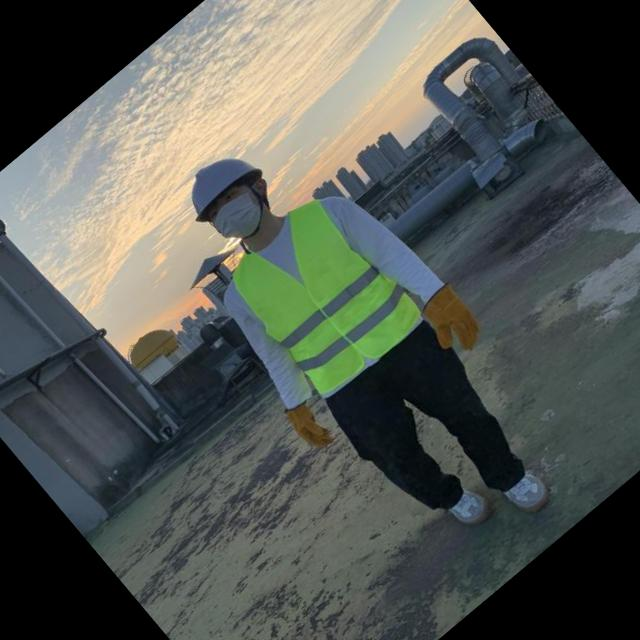hard_hat: (170, 138, 264, 227)
safety_vest: (217, 188, 426, 402)
vehicle: (112, 71, 622, 613)
work_boots: (500, 466, 556, 522), (444, 480, 498, 534)
